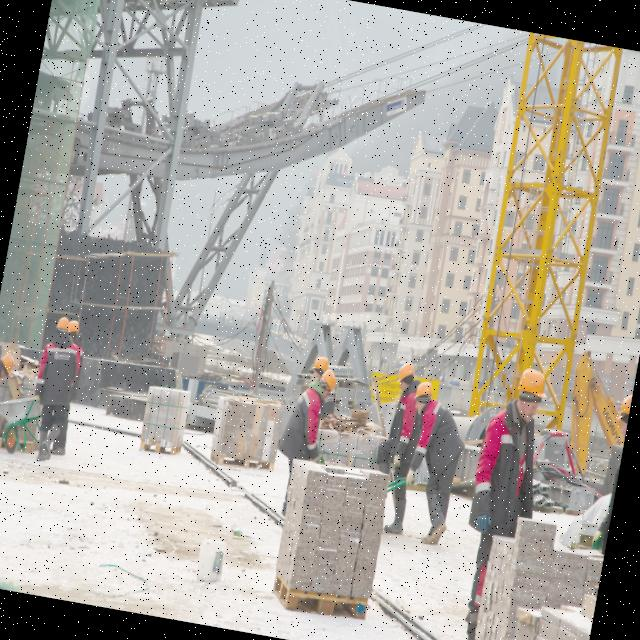Helmet: (515, 366, 552, 407), (318, 371, 341, 400), (397, 360, 417, 389), (413, 380, 435, 405), (617, 393, 633, 424), (1, 351, 17, 378), (65, 320, 84, 340), (55, 317, 73, 337), (312, 357, 330, 377)
Jacket: (472, 397, 543, 529), (416, 401, 461, 475), (284, 390, 325, 463), (38, 341, 82, 407), (388, 396, 425, 467)
